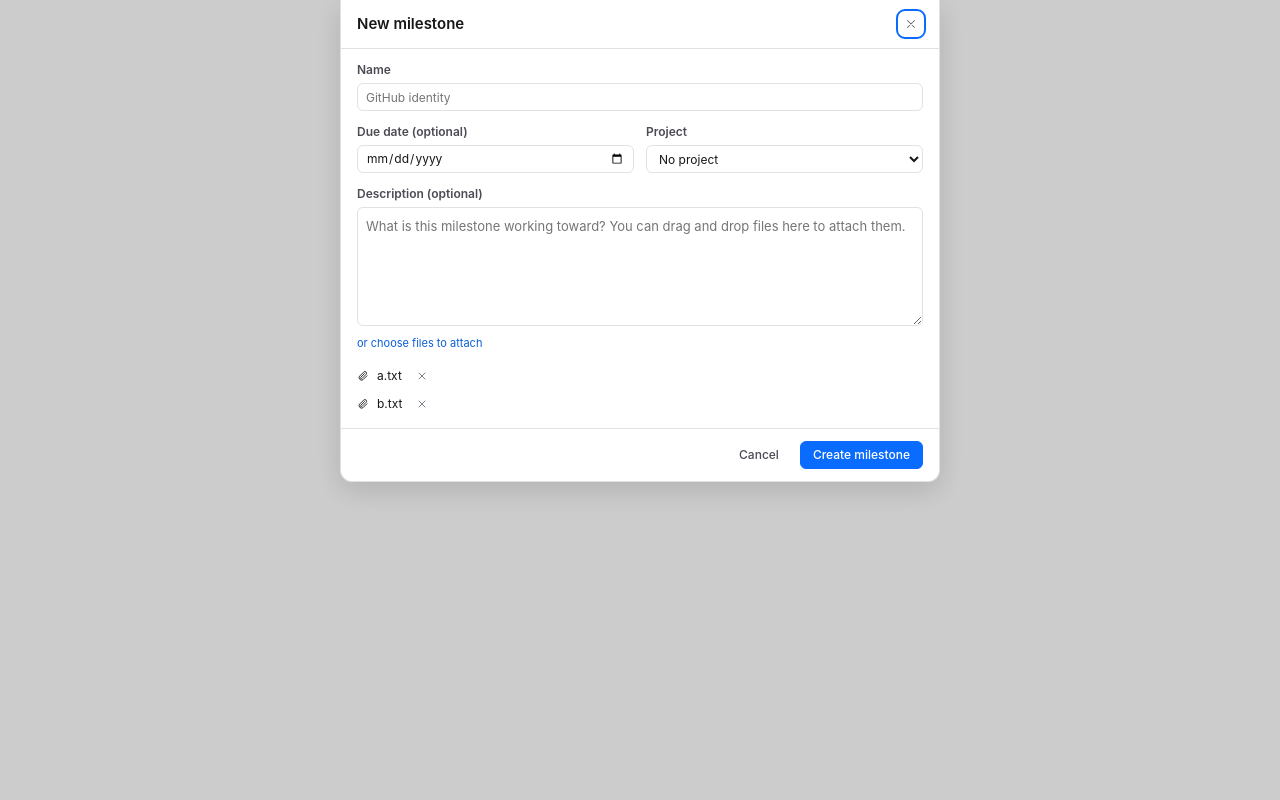
NewMilestoneDialog › attaches files chosen with the picker and lets one be removed
Earlier steps of the test are not shown.
Expected: the button "or choose files to attach" is shown, [357,335,482,352]
Expected: the text "a.txt" is shown, [377,367,402,385]
Click the button named "Remove a.txt" at (422,376), box [410,364,434,388]
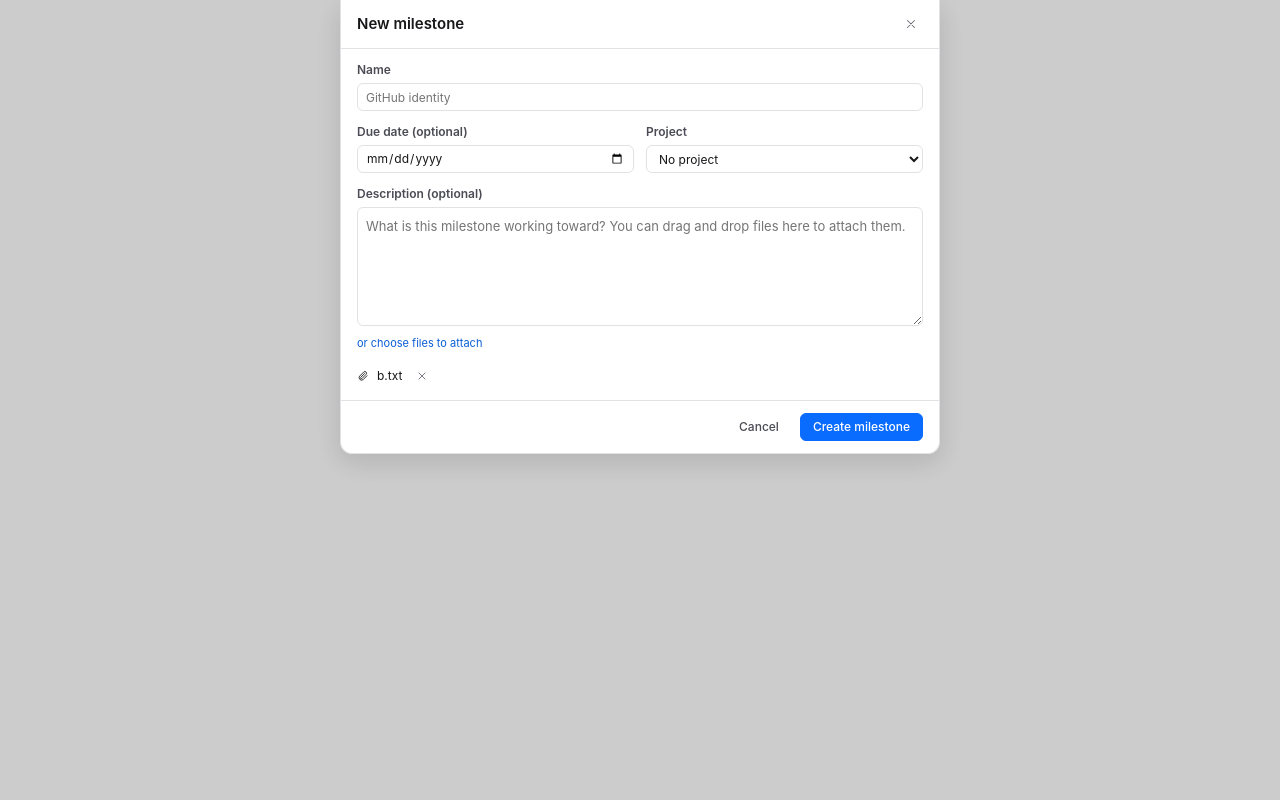
Expected: the text "b.txt" is shown, [377,367,402,385]
Result: the text "a.txt" is gone
